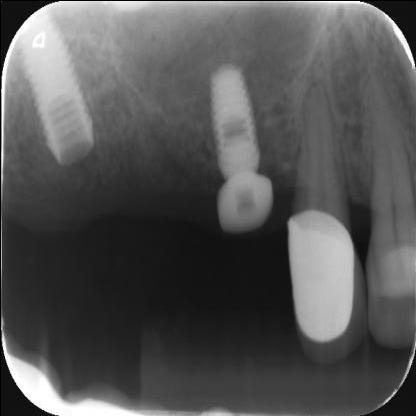Bicon: (14, 14, 96, 166), (207, 66, 262, 175)
